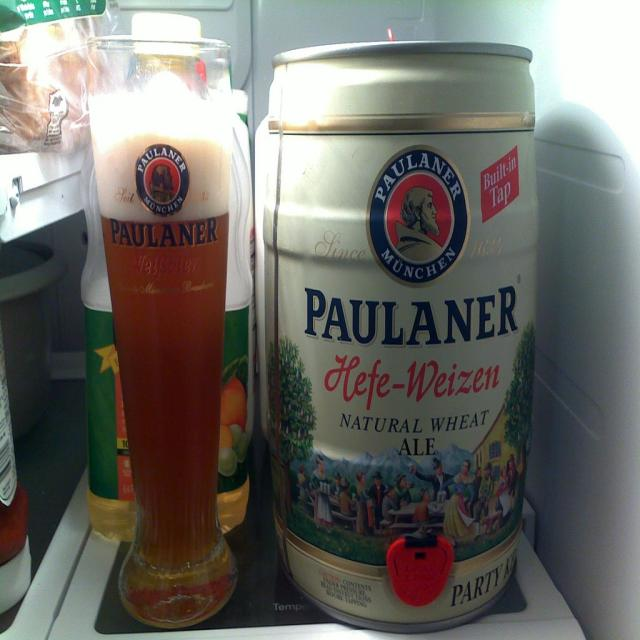paulaner: (367, 148, 471, 287), (135, 145, 191, 219)
